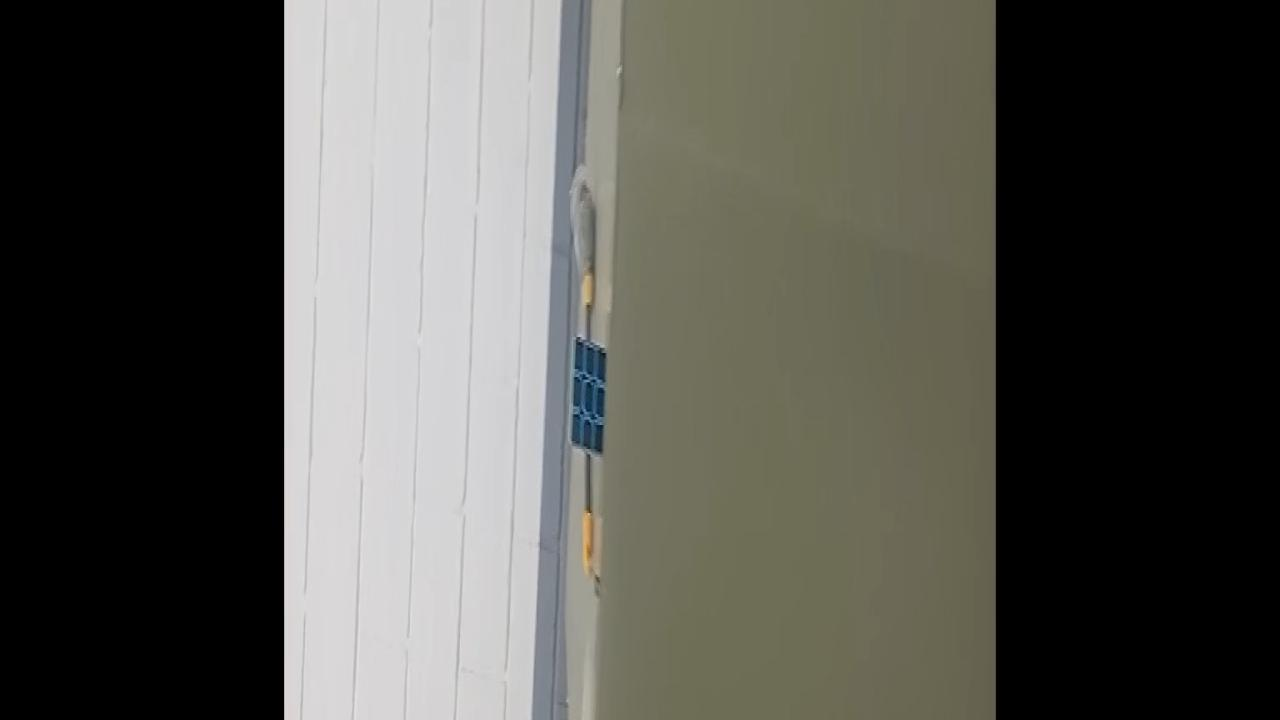Cube: (566, 334, 606, 462)
